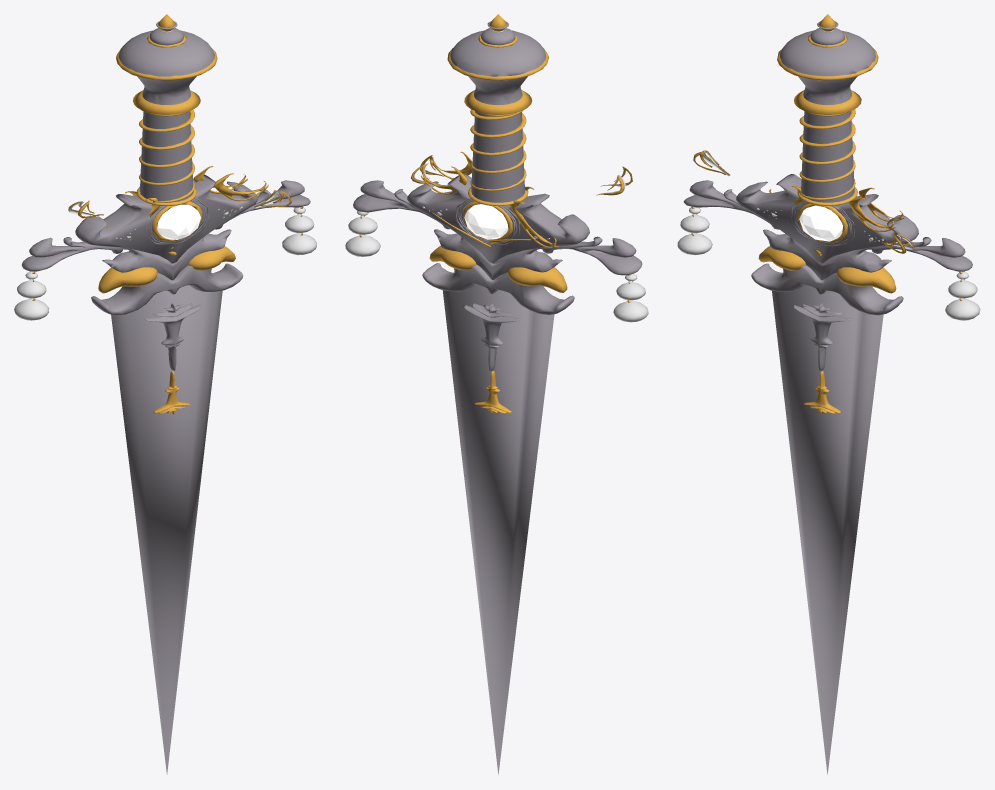
The model's file is talwar.glb.
The picture shows the model from 3 angles, left to right: view 1: azimuth 30°, elevation 25°; view 2: azimuth 150°, elevation 25°; view 3: azimuth 330°, elevation 25°; orthographic projection.
Visible parts, largest first — view 1: BézierCircle; view 2: BézierCircle; view 3: BézierCircle.
Boxes of the visible parts, <box> form: BézierCircle: <box>14,14,316,774</box>; BézierCircle: <box>345,14,648,774</box>; BézierCircle: <box>677,14,980,774</box>.
Size of the model in its own units: 1.23 by 3.01 by 0.3638.
